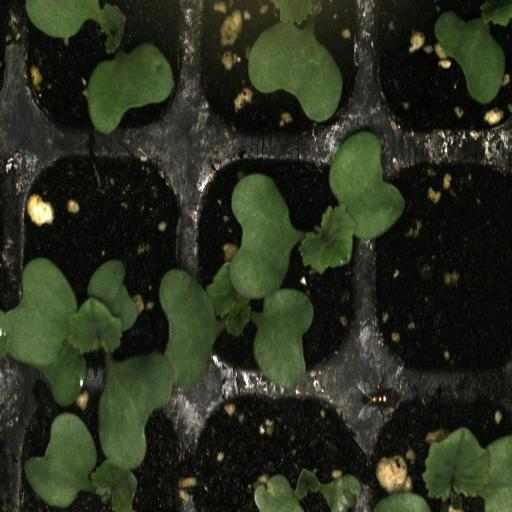seedling: (18, 0, 190, 147), (11, 386, 186, 512), (367, 384, 512, 512)
twoseedling: (7, 146, 191, 384), (192, 147, 369, 383)
